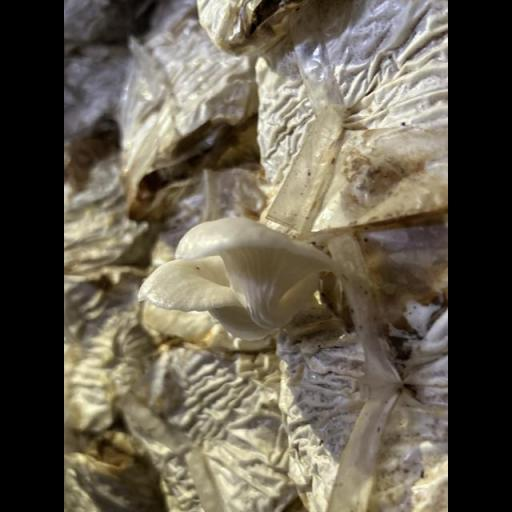White Oyster Mushroom: (129, 197, 368, 355)
